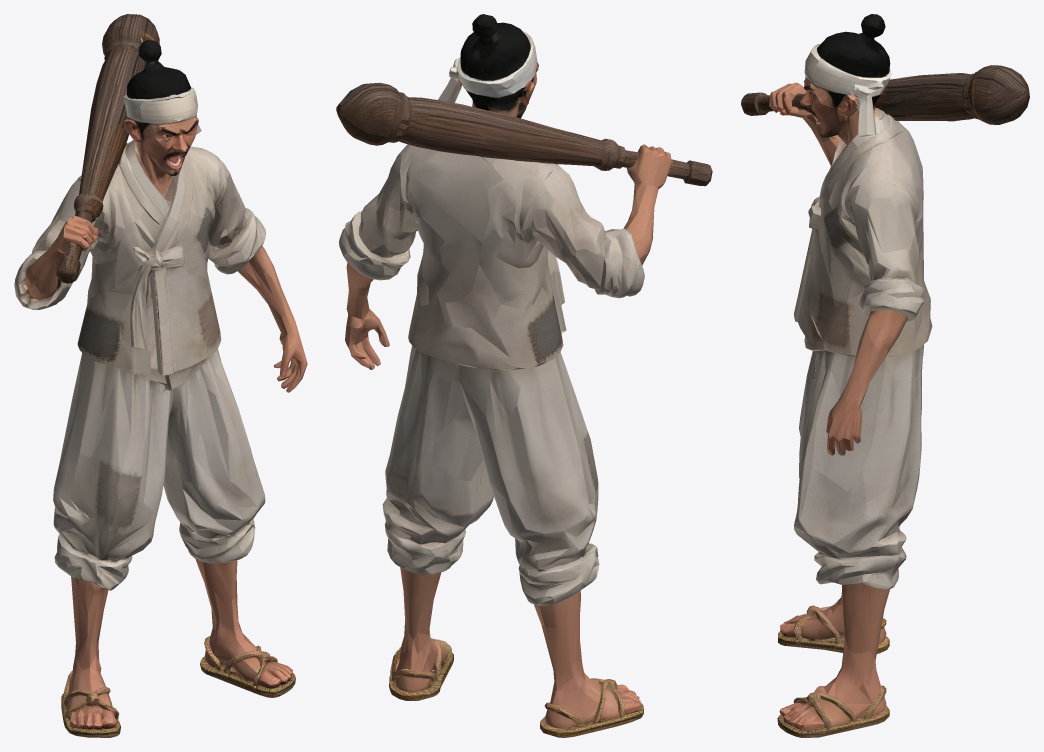
File: rioter_town.glb
3 renders of one model, left to right at view 1: azimuth 30°, elevation 25°; view 2: azimuth 150°, elevation 25°; view 3: azimuth 270°, elevation 25°, orthographic. The views are drawn at different scales.
Bounding box in the file's own units: 0.8955 × 1.9 × 0.7439.
Materials: 1 (1 with a texture image).
